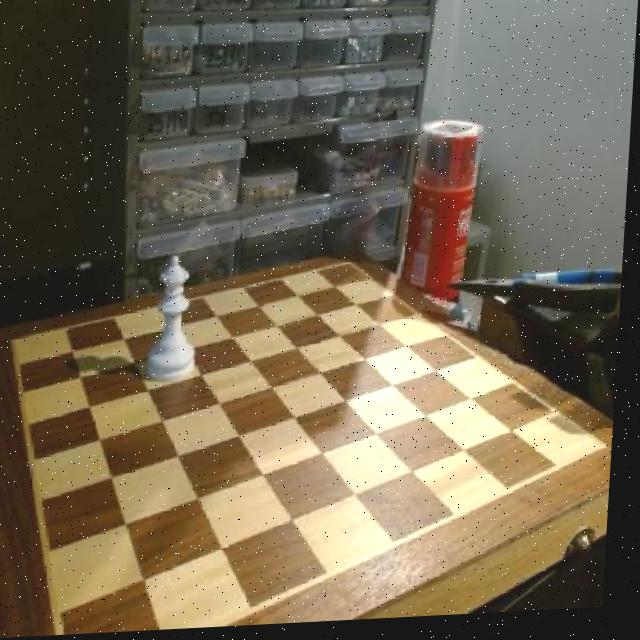white-pawn: (145, 254, 207, 384)
